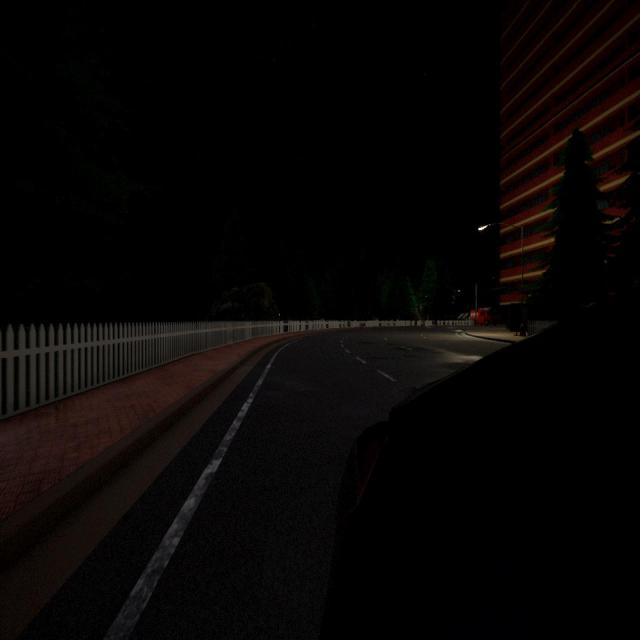Vehicle: (320, 276, 640, 640), (470, 308, 491, 328)
